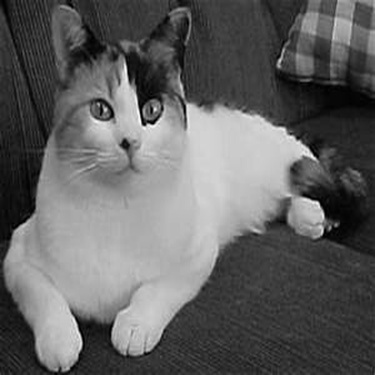cat: (4, 4, 366, 370)
